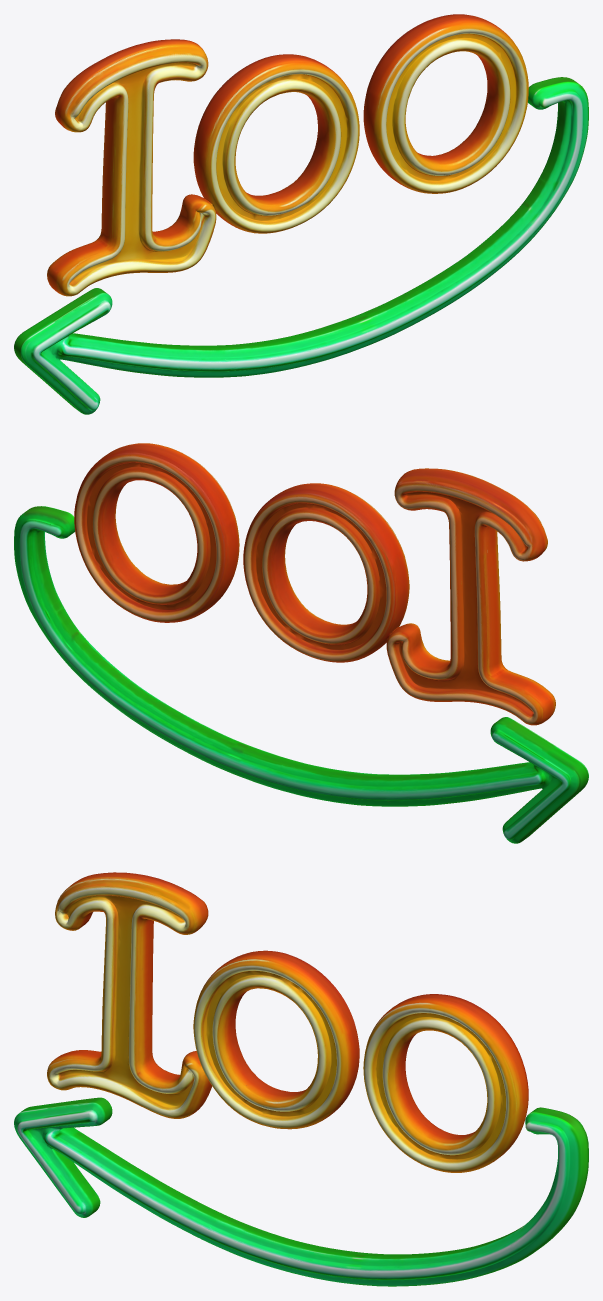
Rendered from LooSign1.glb.
3 renders of one model, top to bottom at view 1: azimuth 30°, elevation 25°; view 2: azimuth 150°, elevation 25°; view 3: azimuth 330°, elevation 25°, orthographic.
Visible parts, largest first — view 1: tripo_node_17e0aadb-8de4-4ad2-93f0-91f1787becc3; view 2: tripo_node_17e0aadb-8de4-4ad2-93f0-91f1787becc3; view 3: tripo_node_17e0aadb-8de4-4ad2-93f0-91f1787becc3.
Boxes of the visible parts, x1,y1,x2,y2 form: tripo_node_17e0aadb-8de4-4ad2-93f0-91f1787becc3: (14, 14, 588, 414); tripo_node_17e0aadb-8de4-4ad2-93f0-91f1787becc3: (14, 443, 588, 843); tripo_node_17e0aadb-8de4-4ad2-93f0-91f1787becc3: (14, 872, 588, 1286).
Bounding box in the file's own units: 0.9791 × 0.5874 × 0.0551.
1 material, 1 textured.
